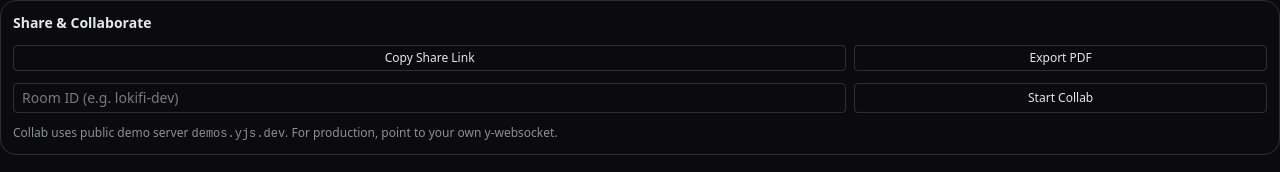
ShareBar › Collaboration - Stopping › should change button back to Start Collab after stopping
// Start collab
In the field with placeholder "Room ID (e.g. lokifi-dev)": (430, 98) [13,83,846,113], type "room-1"
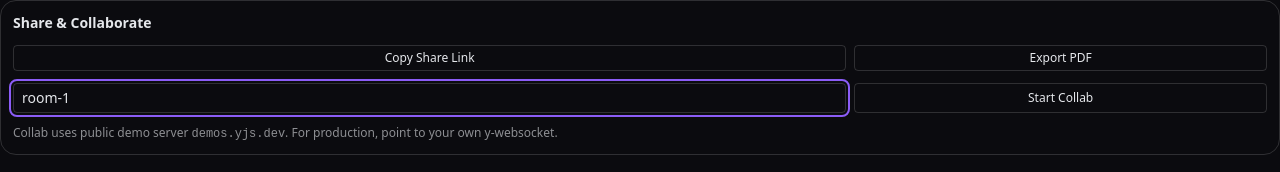
Click the button "Start Collab": (1061, 98) [854,83,1267,113]
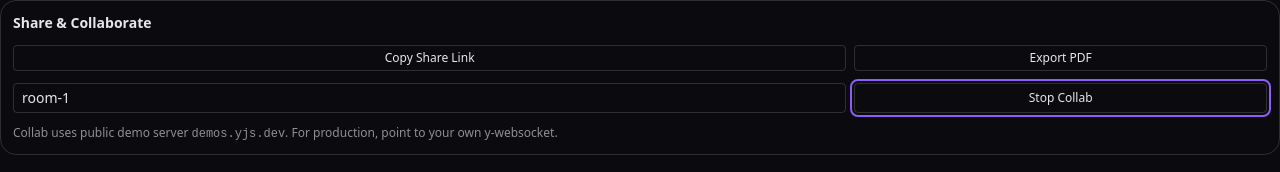
// Stop collab
Click the button "Stop Collab": (1061, 98) [854,83,1267,113]
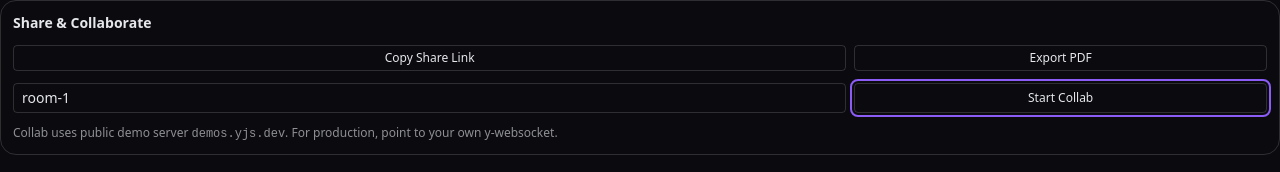
Result: the button "Start Collab" is shown at [854,83,1267,113]
